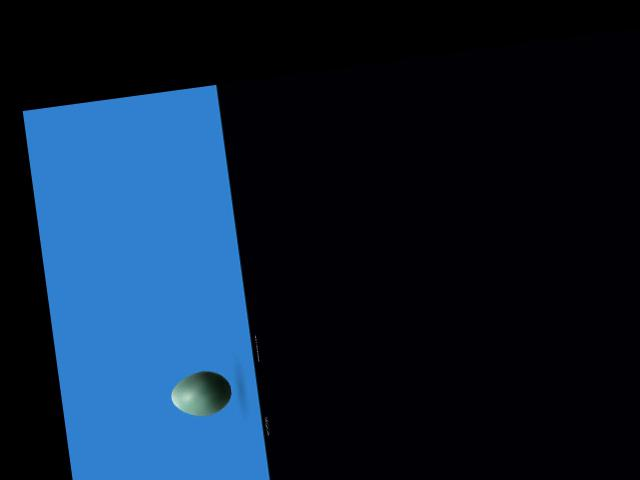egg: (168, 367, 233, 419)
